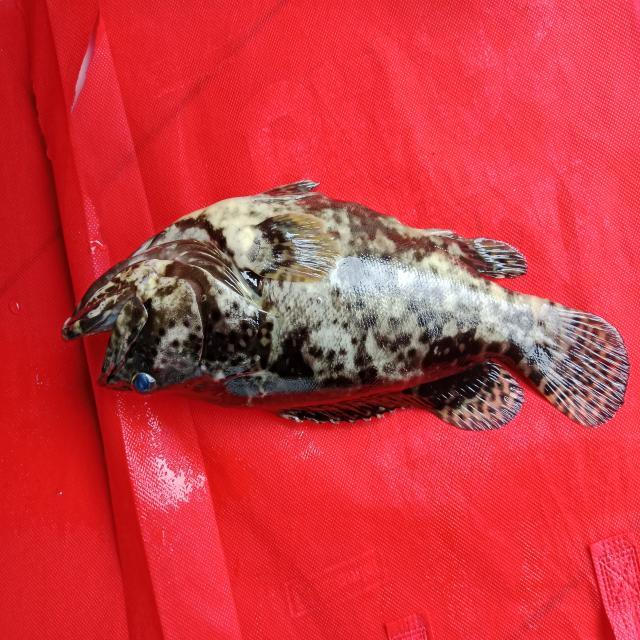ikan: (46, 156, 628, 466)
